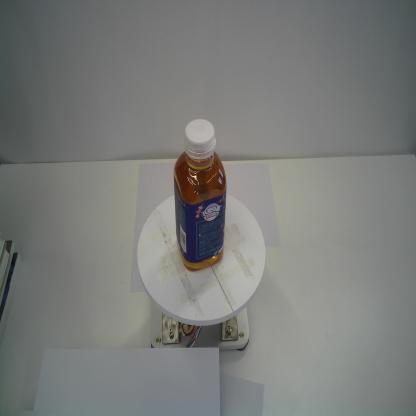Drink: (172, 117, 228, 272)
